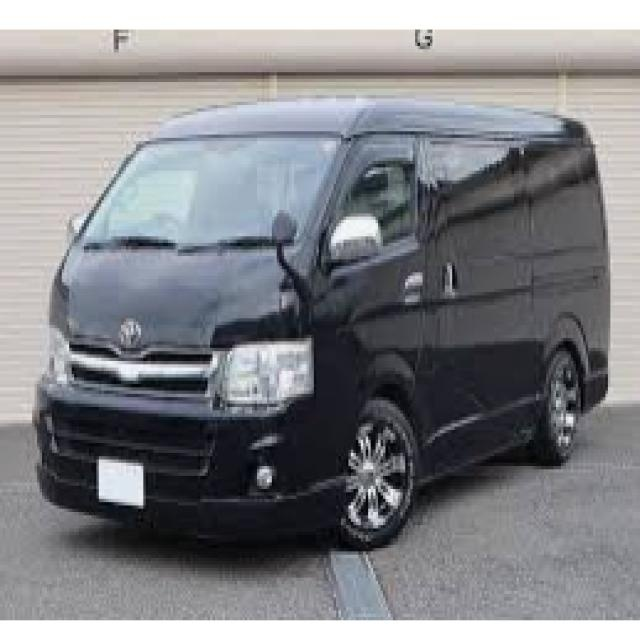Van: (29, 95, 615, 558)
